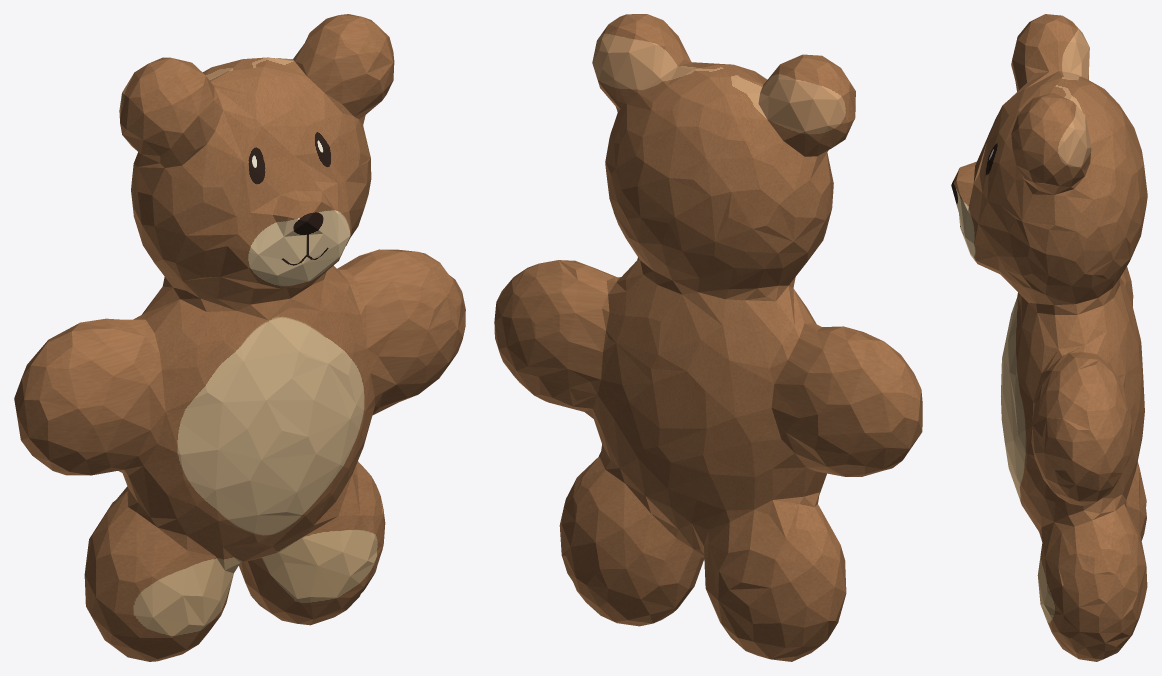
Rendered from bear_physics.obj.
3 renders of one model, left to right at view 1: azimuth 30°, elevation 25°; view 2: azimuth 150°, elevation 25°; view 3: azimuth 270°, elevation 25°, orthographic. The views are drawn at different scales.
Bounding box in the file's own units: 0.2404 × 0.3209 × 0.1011.
Materials: 1 (1 with a texture image).
